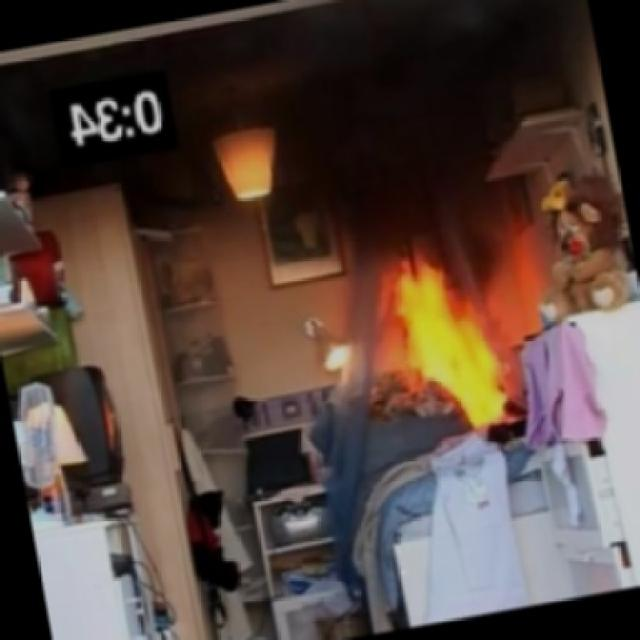fire: (352, 218, 550, 444)
